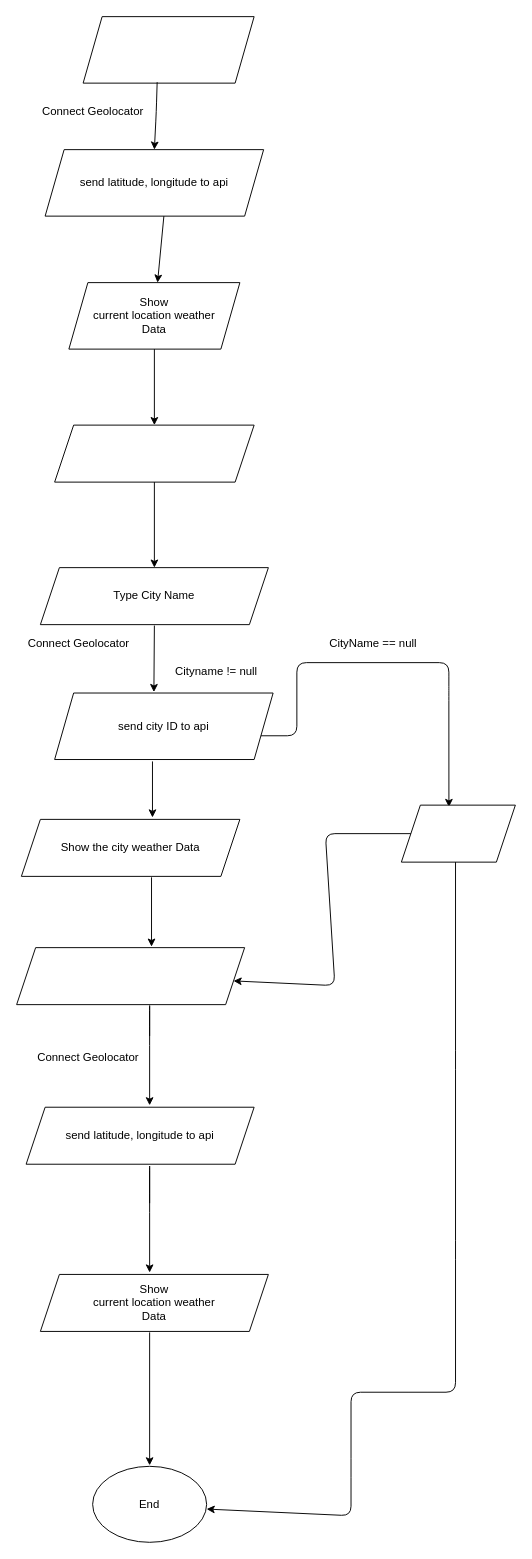
The diagram is 532 pixels wide and 1559 high, and some of its shapes have lost their labels. The shapes that lost their labels are listed below. From the top down, each one's centre as x and y in pixels, then its label:
At (x=168, y=49): "Start".
At (x=154, y=453): "Search Location".
At (x=457, y=833): "Empty weather Field".
At (x=130, y=976): "Reset".
